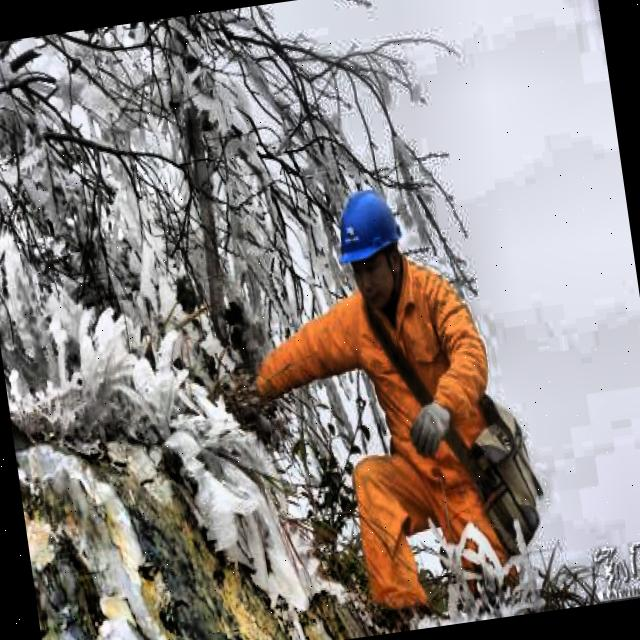helmet: (322, 172, 418, 324)
